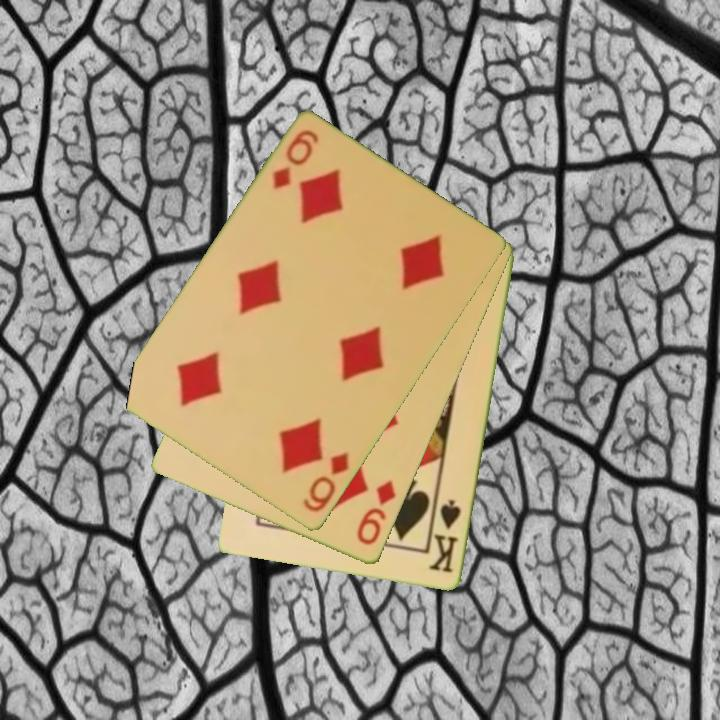6d: (268, 126, 322, 193), (299, 448, 352, 516)
9d: (353, 476, 399, 549)
Ks: (425, 497, 465, 576)
